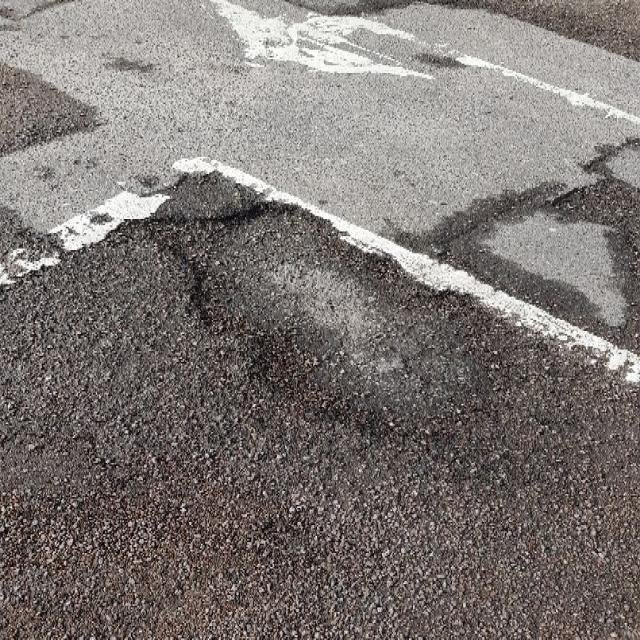pothole: (143, 186, 490, 457)
